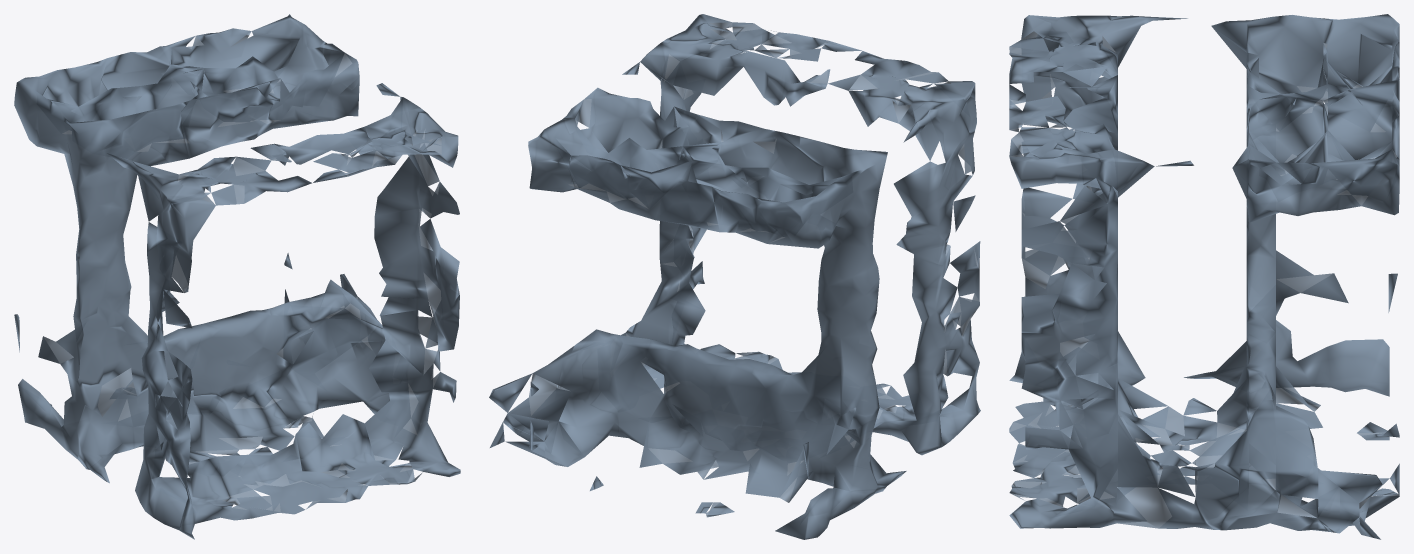
Rendered from bed_0513_original.obj.
3 views of the same model, side by side, from view 1: azimuth 30°, elevation 25°; view 2: azimuth 150°, elevation 25°; view 3: azimuth 270°, elevation 25° (orthographic). The views are drawn at different scales.
Bounding box in the file's own units: 1.17 × 1.17 × 1.11.
